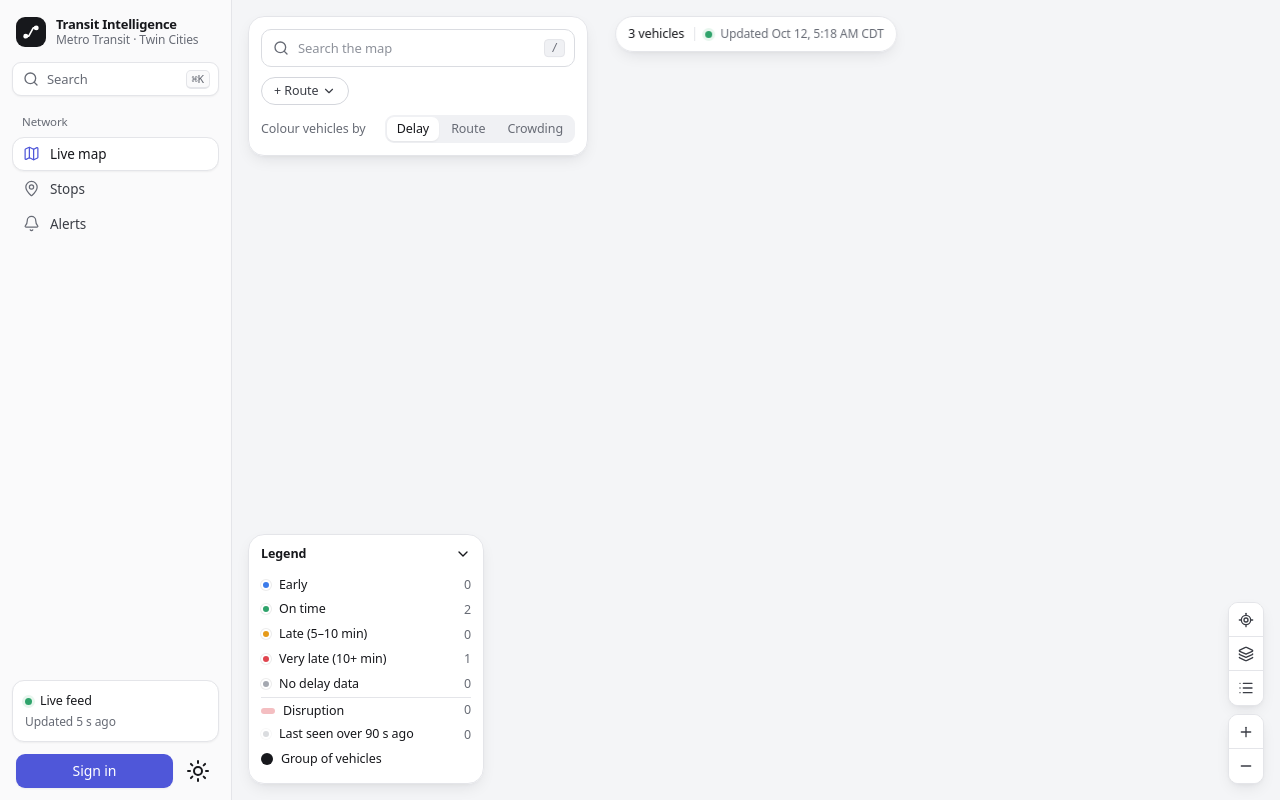
Test: live map › AC-10 colours by route from the segmented control and lists the routes in the legend
This screenshot has width=1280, height=800.
Click the radio button labelled "Route" at (468, 129), box x1=441 y1=117 x2=495 y2=141
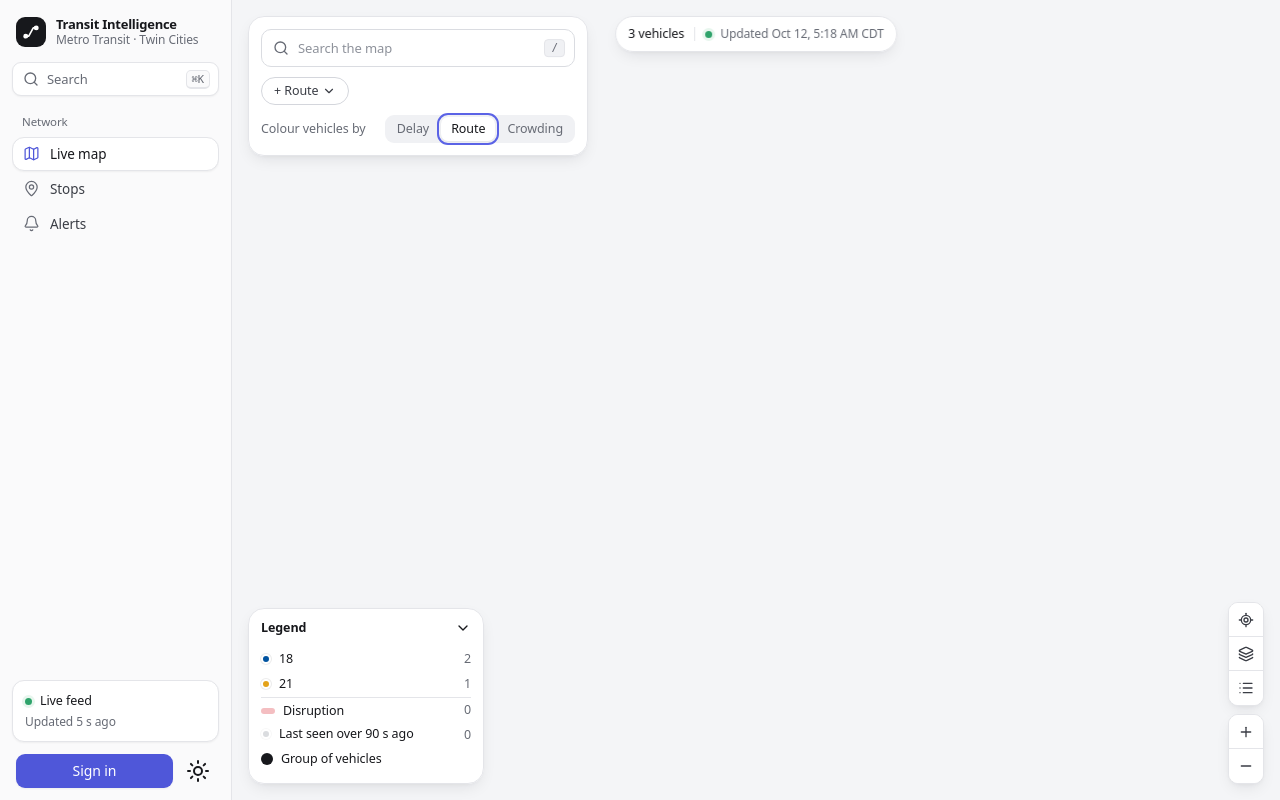
Expected: the column heading "18" is shown, x1=261 y1=647 x2=443 y2=672
Expected: the column heading "21" is shown, x1=261 y1=672 x2=443 y2=697
